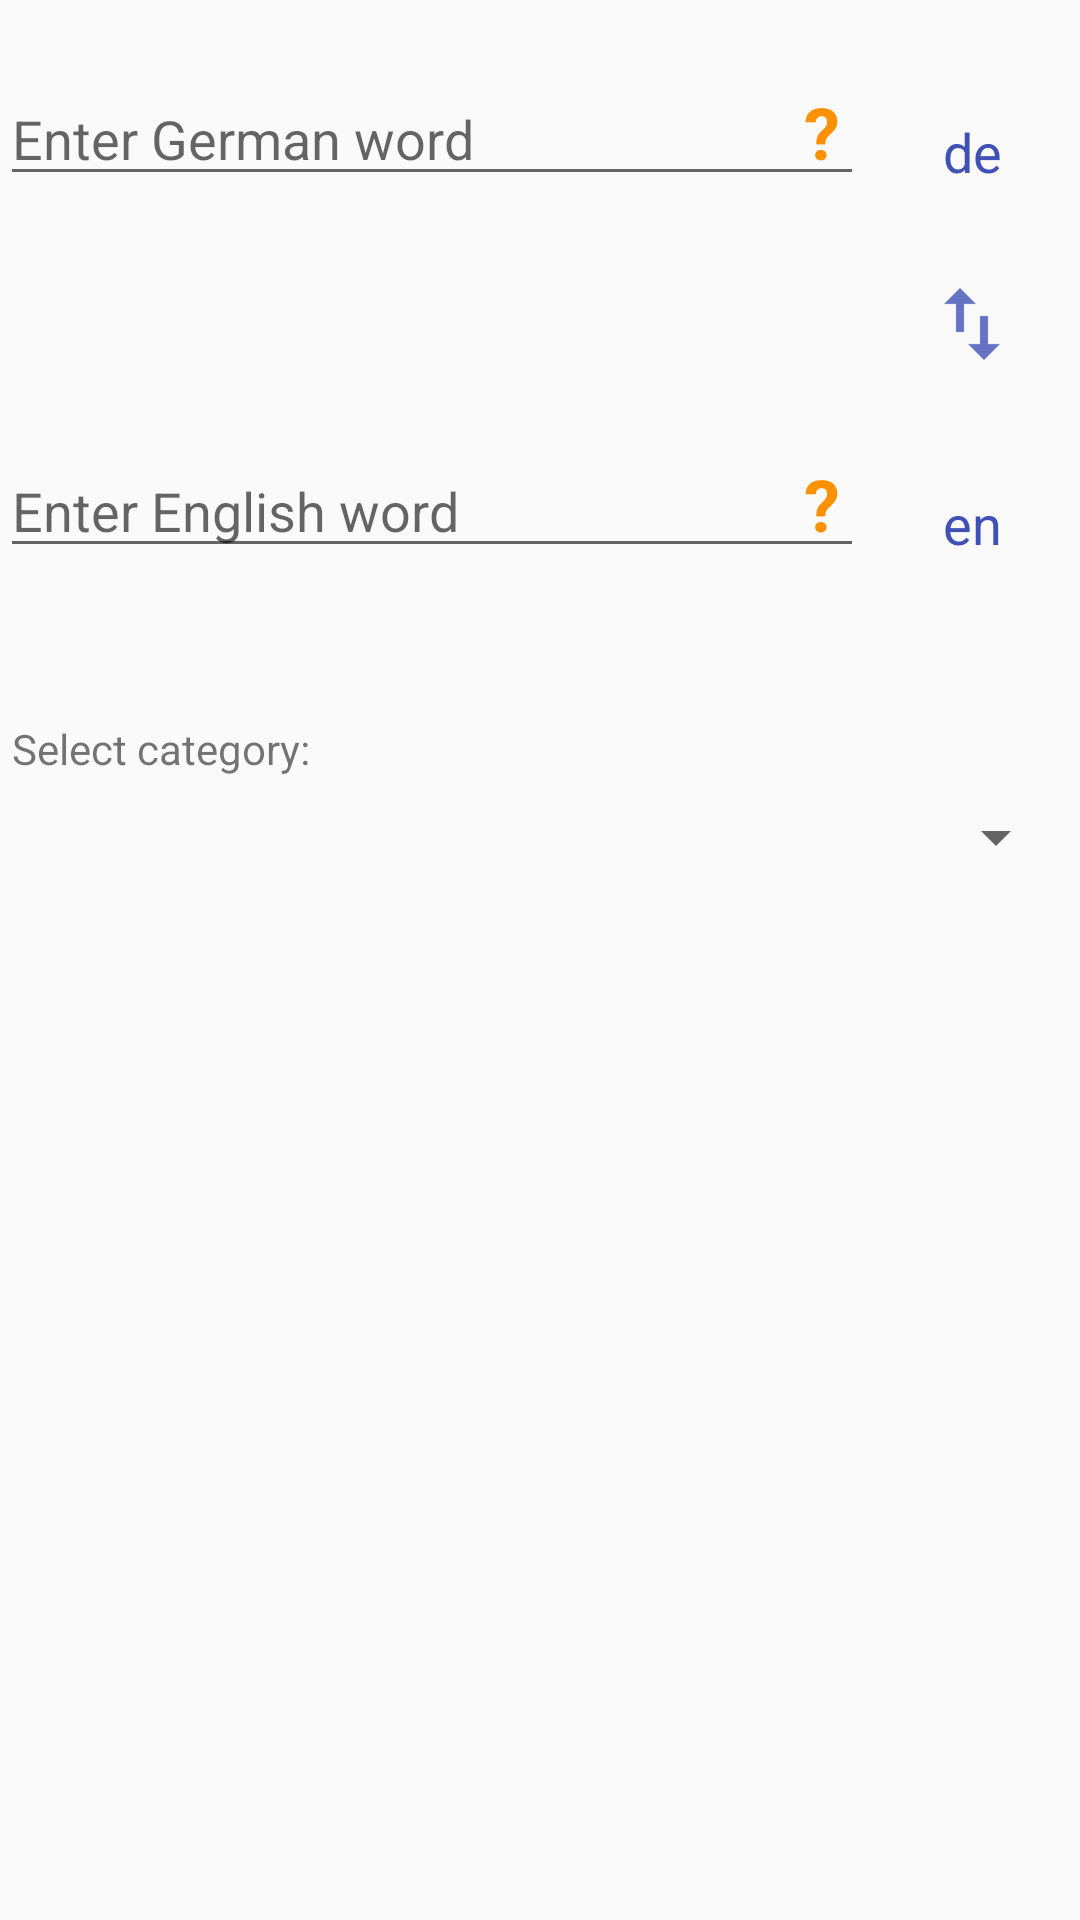

Icons on this 1080 x 1920 Android screen, each with the point to tap as (x,y):
Swap language: (972,324)
